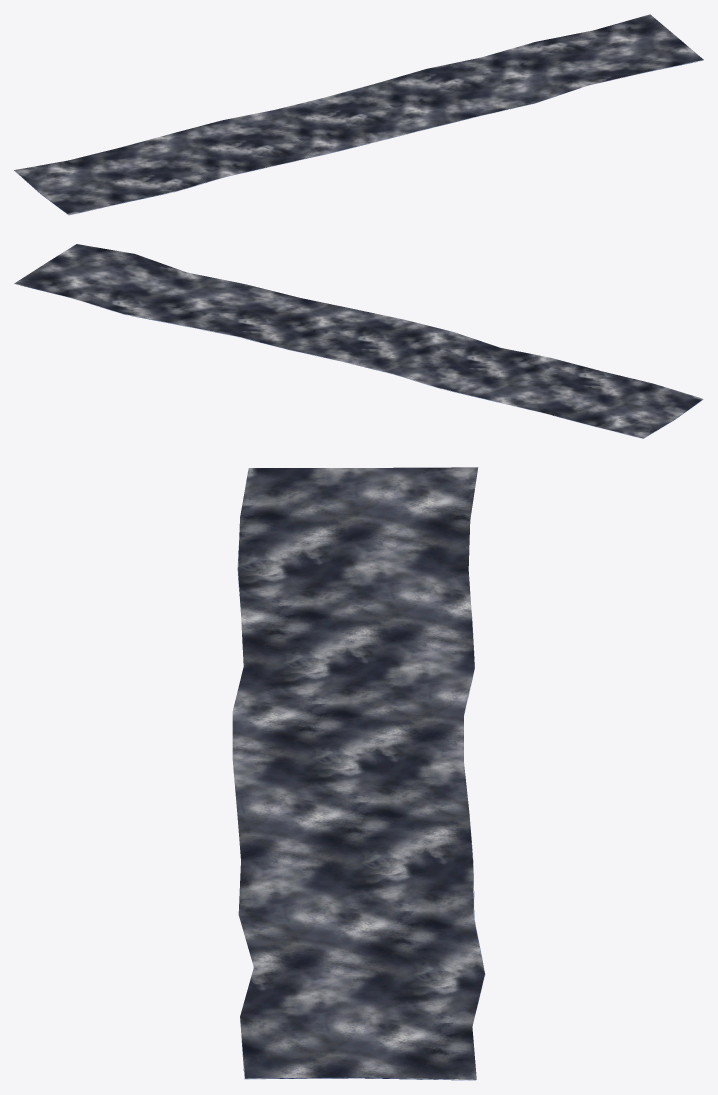
File: LONE_MOUNTAIN_WATERFALLS_MAIN_WATER_COOLER.fbx
3 views of the same model, one above another, from view 1: azimuth 30°, elevation 25°; view 2: azimuth 150°, elevation 25°; view 3: azimuth 270°, elevation 25° (orthographic). The views are drawn at different scales.
Visible parts, largest first — view 1: LONE_MOUNTAIN_WATERFALLS_MAIN_WATER_COOLER; view 2: LONE_MOUNTAIN_WATERFALLS_MAIN_WATER_COOLER; view 3: LONE_MOUNTAIN_WATERFALLS_MAIN_WATER_COOLER.
Boxes of the visible parts, <box> form: LONE_MOUNTAIN_WATERFALLS_MAIN_WATER_COOLER: <box>14,14,703,215</box>; LONE_MOUNTAIN_WATERFALLS_MAIN_WATER_COOLER: <box>14,244,703,438</box>; LONE_MOUNTAIN_WATERFALLS_MAIN_WATER_COOLER: <box>232,467,485,1080</box>.
Bounding box in the file's own units: 174476 × 1248 × 30185.
Materials: 2 (2 with a texture image).
